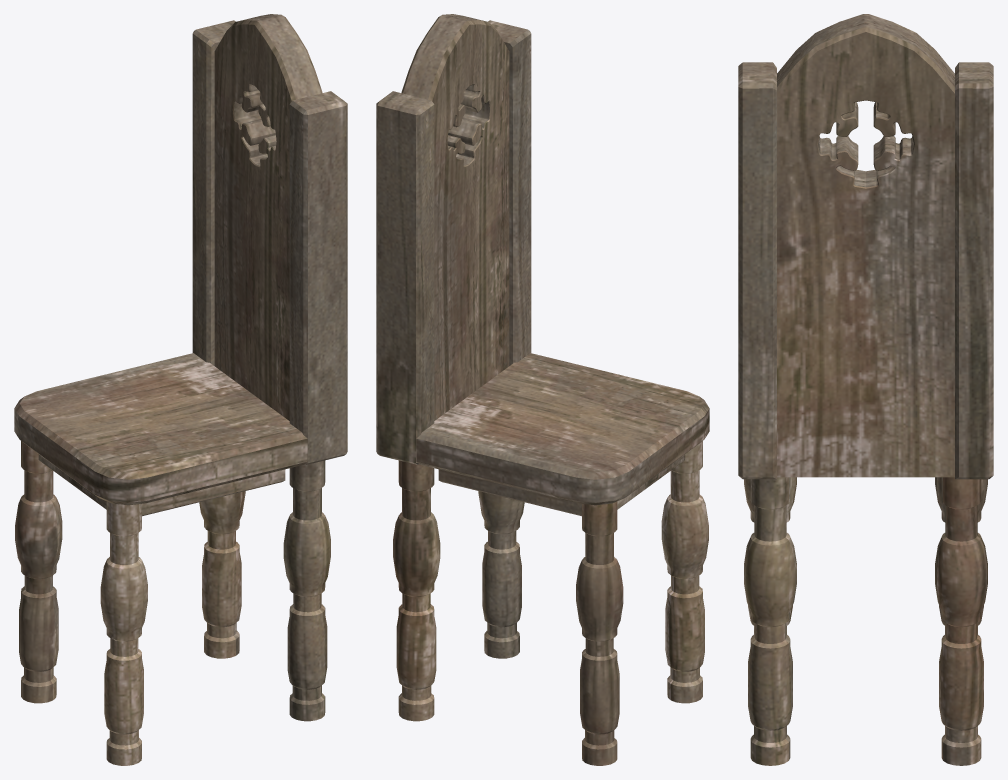
Rendered from SM_Chair.fbx.
The picture shows the model from 3 angles, left to right: view 1: azimuth 30°, elevation 25°; view 2: azimuth 150°, elevation 25°; view 3: azimuth 270°, elevation 25°; orthographic projection. The views are drawn at different scales.
Parts seen in each view (by area): view 1: SM_Chair_LOD0; view 2: SM_Chair_LOD0; view 3: SM_Chair_LOD0.
Boxes of the visible parts, box(x1,y1,x2,y2) form: SM_Chair_LOD0: box(14, 14, 347, 765); SM_Chair_LOD0: box(376, 14, 709, 765); SM_Chair_LOD0: box(738, 14, 993, 765).
Bounding box in the file's own units: 49.29 × 41.49 × 133.
1 material, 1 textured.
